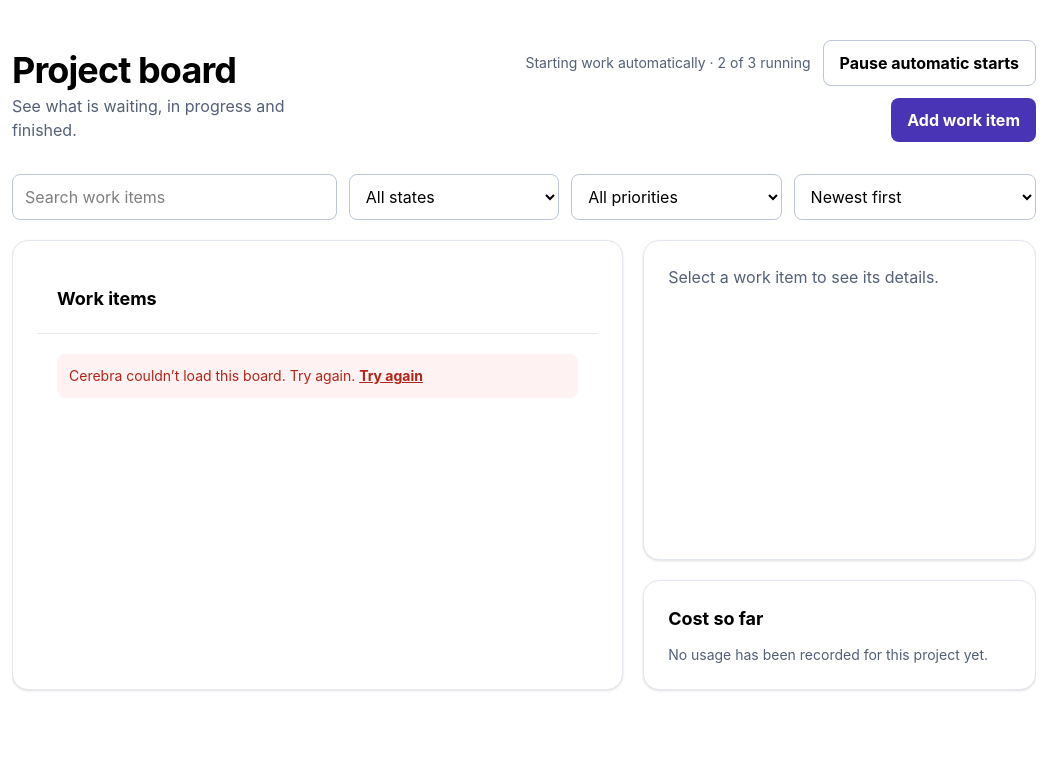
reports a failed board read and recovers with Try again
Expected: the text "Cerebra couldn’t load this board. Try again." is shown, [69,367,355,384]
Click the button "Try again".
click(391, 376)  # box [359,366,423,386]
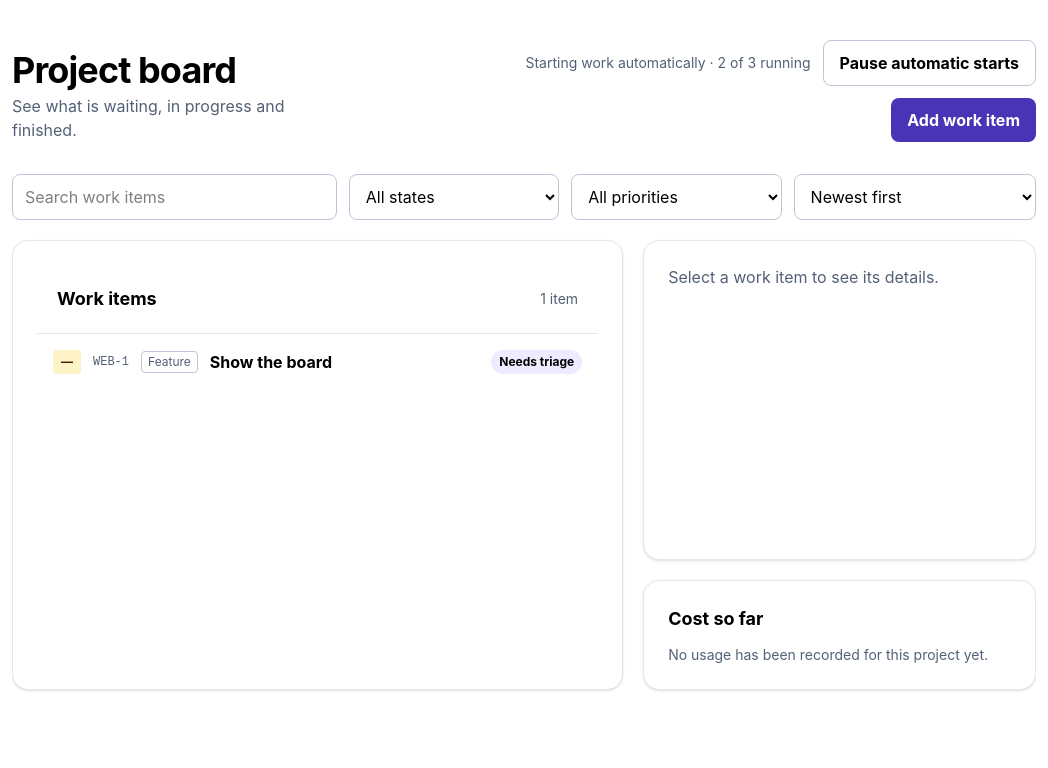
Now the button "— WEB-1 Feature Show the board Needs triage" is shown, box [45,342,590,382]
